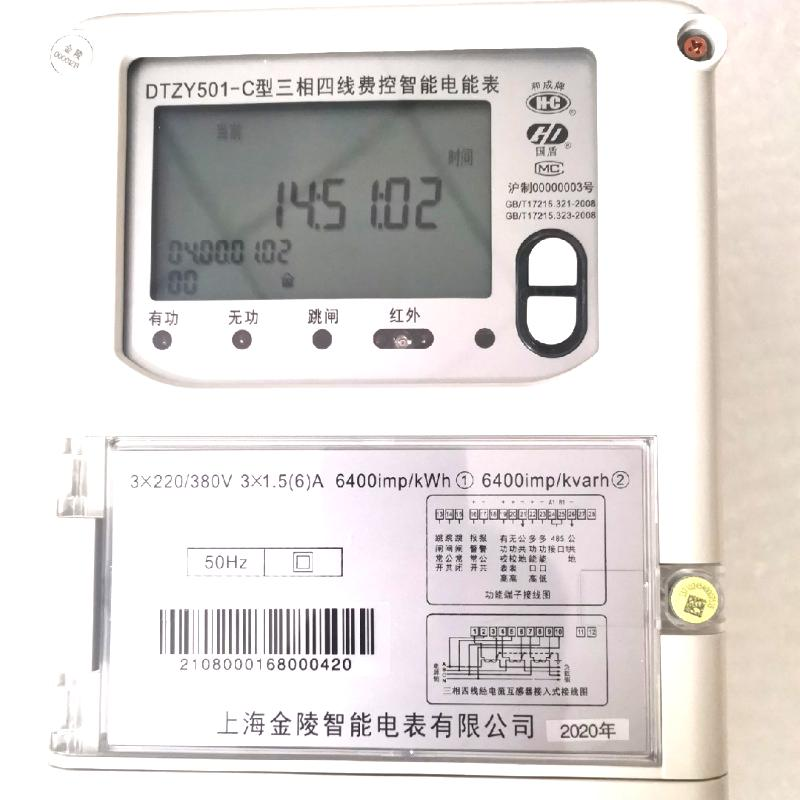digital: (39, 2, 723, 798)
